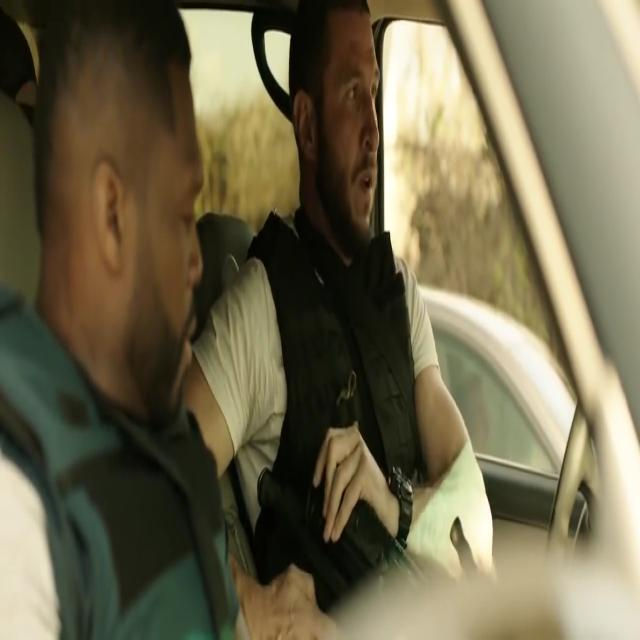Weapon: (266, 360, 462, 620)
